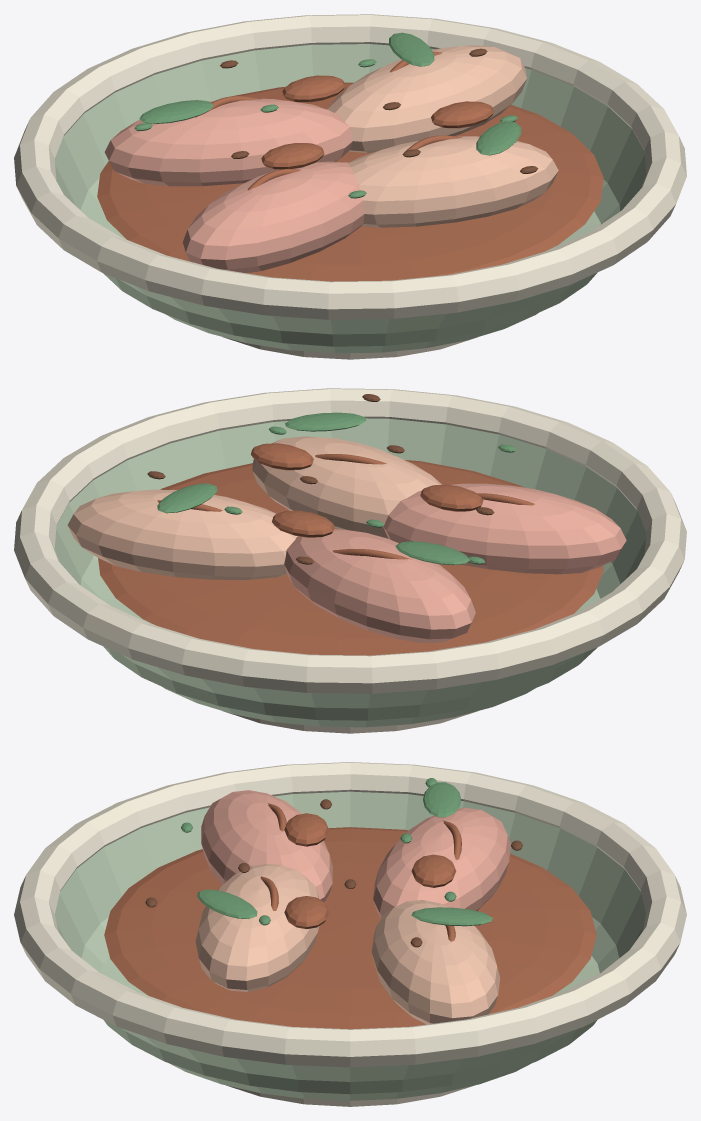
File: marinated_chicken.glb
The picture shows the model from 3 angles, top to bottom: view 1: azimuth 30°, elevation 25°; view 2: azimuth 150°, elevation 25°; view 3: azimuth 270°, elevation 25°; orthographic projection.
Visible parts, largest first — view 1: marinating_celadon_dish_rolled_lip, marinating_celadon_dish_hollow_profile, shallow_marinate_pool, cut_chicken_piece_2, cut_chicken_piece_1, cut_chicken_piece_0, cut_chicken_piece_3, amber_oil_glaze_bead_2, amber_oil_glaze_bead_1, amber_oil_glaze_bead_0, marinating_celadon_dish_foot_ring, marinade_herb_fragment_0 (+2 smaller); view 2: marinating_celadon_dish_rolled_lip, marinating_celadon_dish_hollow_profile, shallow_marinate_pool, cut_chicken_piece_3, cut_chicken_piece_0, cut_chicken_piece_2, cut_chicken_piece_1, amber_oil_glaze_bead_2, amber_oil_glaze_bead_1, amber_oil_glaze_bead_0, marinating_celadon_dish_foot_ring, marinade_herb_fragment_1 (+2 smaller); view 3: marinating_celadon_dish_rolled_lip, shallow_marinate_pool, marinating_celadon_dish_hollow_profile, cut_chicken_piece_3, cut_chicken_piece_1, cut_chicken_piece_2, cut_chicken_piece_0, marinating_celadon_dish_foot_ring, marinade_herb_fragment_2, amber_oil_glaze_bead_0, amber_oil_glaze_bead_1, amber_oil_glaze_bead_2 (+2 smaller).
Part boxes in pixels (box(x1,y1,x2,y2)): marinating_celadon_dish_rolled_lip: box(14, 14, 686, 319); marinating_celadon_dish_hollow_profile: box(54, 44, 646, 353); shallow_marinate_pool: box(97, 82, 603, 281); cut_chicken_piece_2: box(104, 98, 352, 186); cut_chicken_piece_1: box(348, 136, 558, 227); cut_chicken_piece_0: box(182, 161, 364, 273); cut_chicken_piece_3: box(327, 45, 526, 152); amber_oil_glaze_bead_2: box(431, 101, 493, 128); amber_oil_glaze_bead_1: box(282, 75, 345, 102); amber_oil_glaze_bead_0: box(261, 143, 324, 169); marinating_celadon_dish_foot_ring: box(223, 337, 477, 359); marinade_herb_fragment_0: box(139, 100, 213, 123); marinating_celadon_dish_rolled_lip: box(14, 388, 686, 693); marinating_celadon_dish_hollow_profile: box(54, 418, 646, 727); shallow_marinate_pool: box(98, 460, 603, 655); cut_chicken_piece_3: box(67, 489, 298, 579); cut_chicken_piece_0: box(383, 483, 626, 574); cut_chicken_piece_2: box(284, 529, 475, 643); cut_chicken_piece_1: box(252, 436, 441, 538); amber_oil_glaze_bead_2: box(251, 443, 313, 470); amber_oil_glaze_bead_1: box(272, 510, 334, 537); amber_oil_glaze_bead_0: box(420, 484, 483, 511); marinating_celadon_dish_foot_ring: box(223, 711, 477, 733); marinade_herb_fragment_1: box(285, 412, 366, 431); marinating_celadon_dish_rolled_lip: box(14, 762, 686, 1067); shallow_marinate_pool: box(104, 827, 596, 1029); marinating_celadon_dish_hollow_profile: box(54, 791, 646, 1100); cut_chicken_piece_3: box(371, 900, 500, 1024); cut_chicken_piece_1: box(195, 864, 319, 991); cut_chicken_piece_2: box(373, 807, 510, 918); cut_chicken_piece_0: box(201, 790, 332, 902); marinating_celadon_dish_foot_ring: box(226, 1085, 474, 1106); marinade_herb_fragment_2: box(411, 907, 492, 926); amber_oil_glaze_bead_0: box(284, 813, 328, 846); amber_oil_glaze_bead_1: box(411, 854, 456, 887); amber_oil_glaze_bead_2: box(284, 896, 328, 929).
Size of the model in its own units: 0.6613 by 0.1875 by 0.6613.
